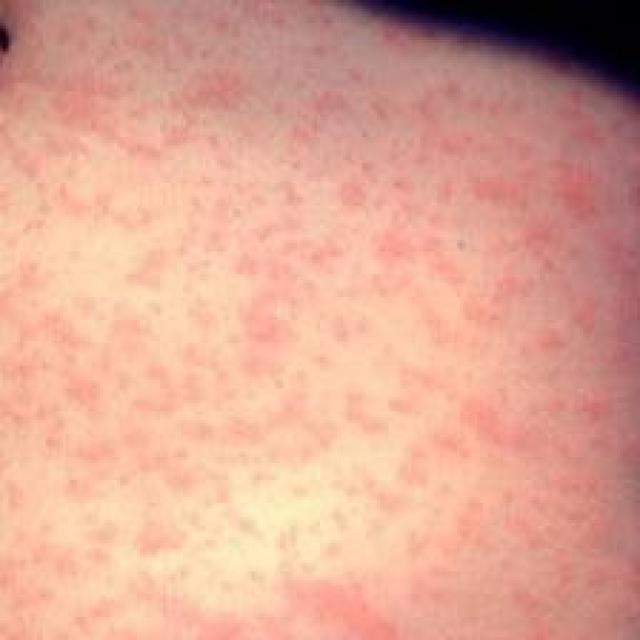others: (2, 9, 624, 640)
